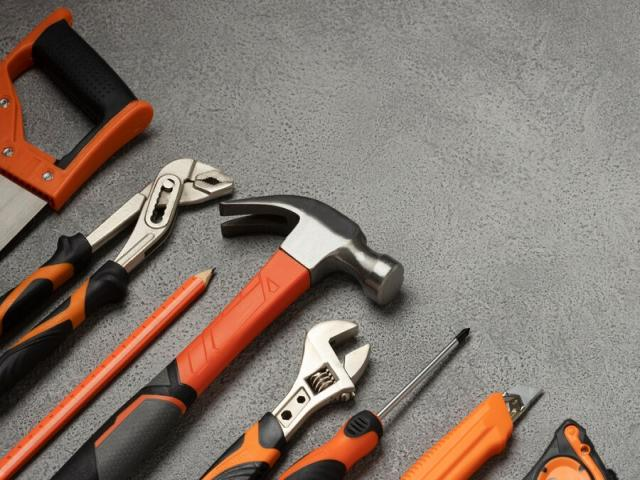Adjustable spanner: (201, 321, 370, 480)
Gas wrench: (0, 159, 234, 396)
Hammer: (54, 195, 402, 480)
Handsaw: (0, 8, 154, 250)
Screwdriver: (279, 330, 469, 480)
Tape measure: (524, 419, 618, 480)
Utility knife: (401, 385, 542, 480)
